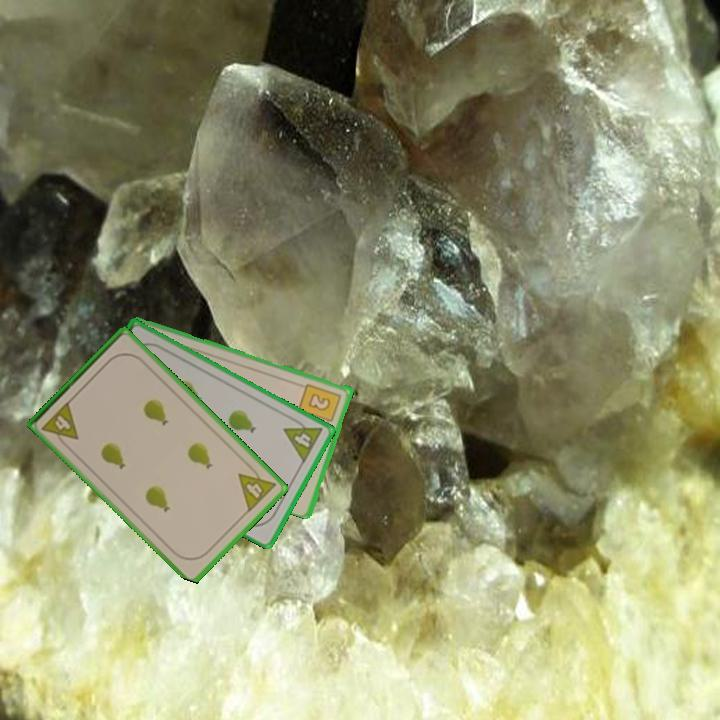2b: (295, 380, 344, 430)
4p: (280, 413, 326, 466), (235, 460, 279, 515), (38, 397, 82, 451)
